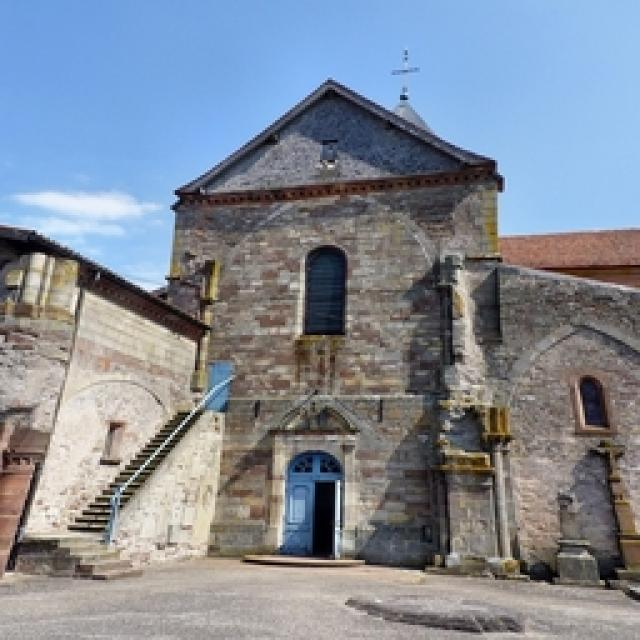Abbey: (29, 45, 640, 583)
